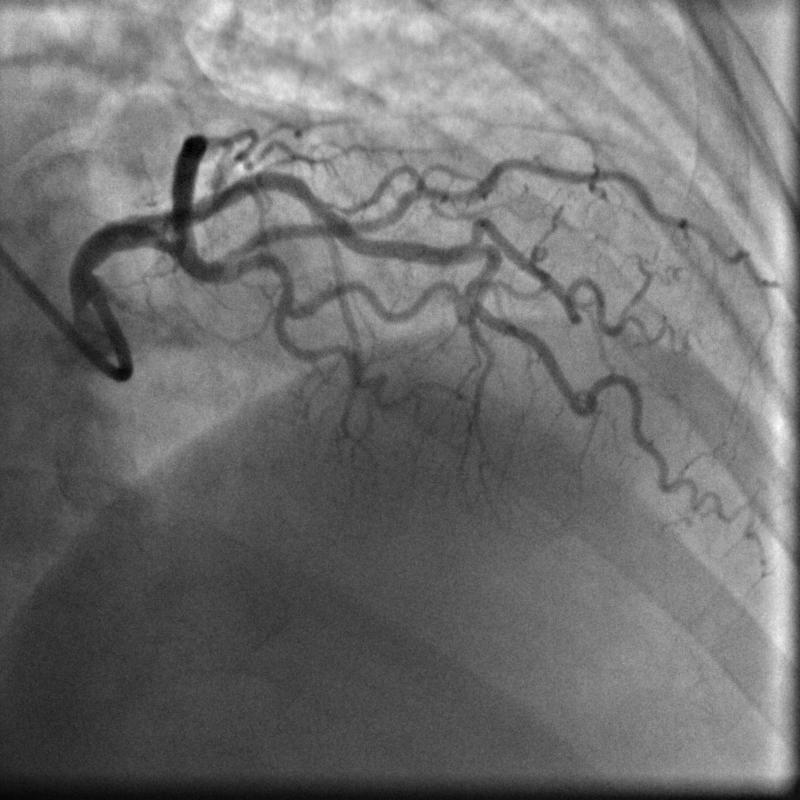Stenosis: (162, 216, 189, 258)
